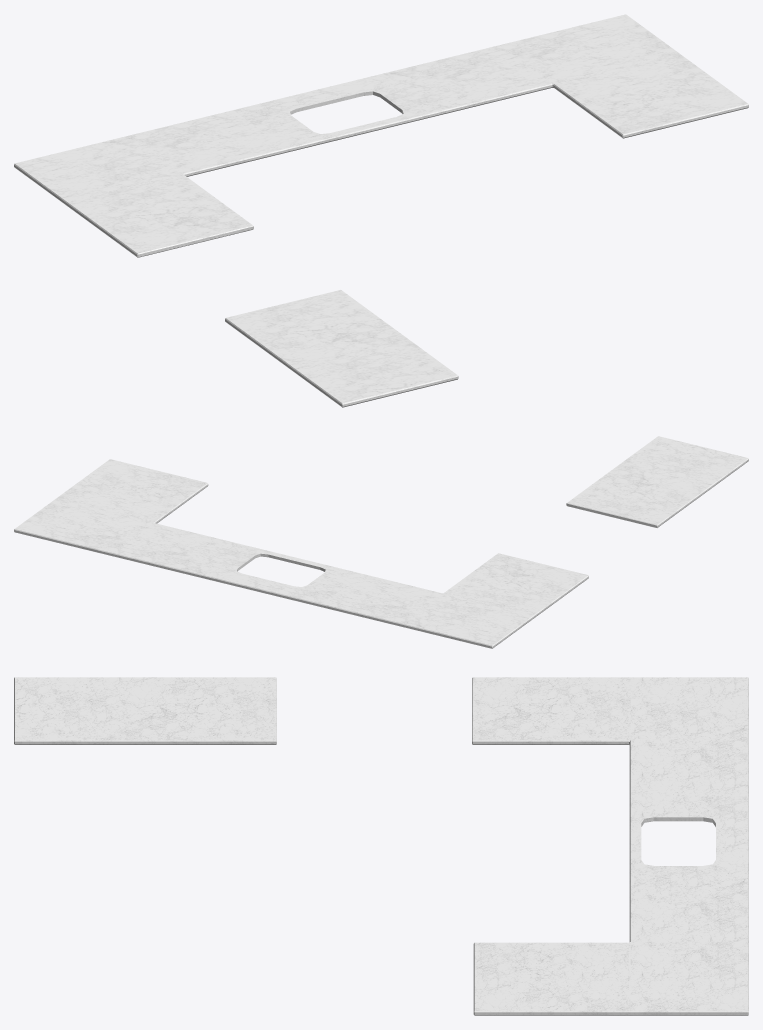
The model's file is Cube_432_0413bcd4.obj.
The picture shows the model from 3 angles, top to bottom: view 1: azimuth 30°, elevation 25°; view 2: azimuth 150°, elevation 25°; view 3: azimuth 270°, elevation 25°; orthographic projection. The views are drawn at different scales.
Visible parts, largest first — view 1: Cube.432_0413bcd4; view 2: Cube.432_0413bcd4; view 3: Cube.432_0413bcd4.
Part boxes in pixels (<box>): Cube.432_0413bcd4: <box>14,14,748,407</box>; Cube.432_0413bcd4: <box>14,436,748,648</box>; Cube.432_0413bcd4: <box>14,677,748,1015</box>.
Bounding box in the file's own units: 3.95 × 0.0261 × 3.67.
